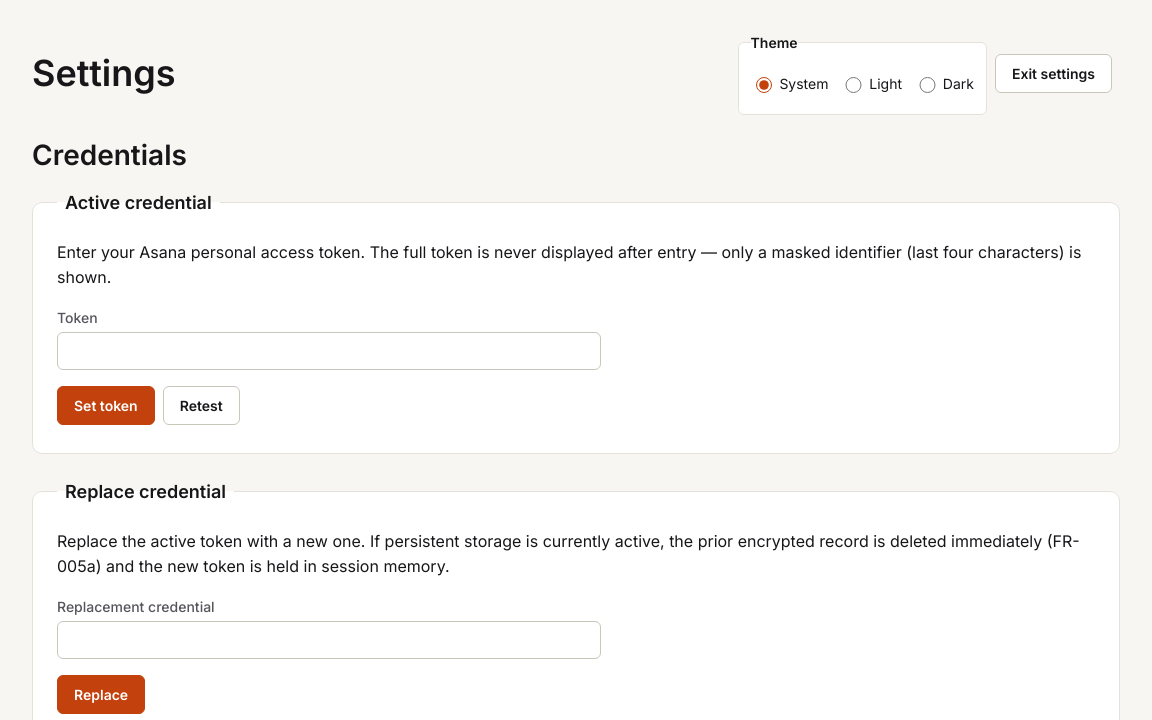
Test: BSOD-360 Settings exit affordance › falls back to the app shell when the user landed on Settings directly
What coordinates should you click on to do the following:
click the button with test id "settings-exit"
I would click on:
 (1054, 74)
Its box is [995,54,1112,93].
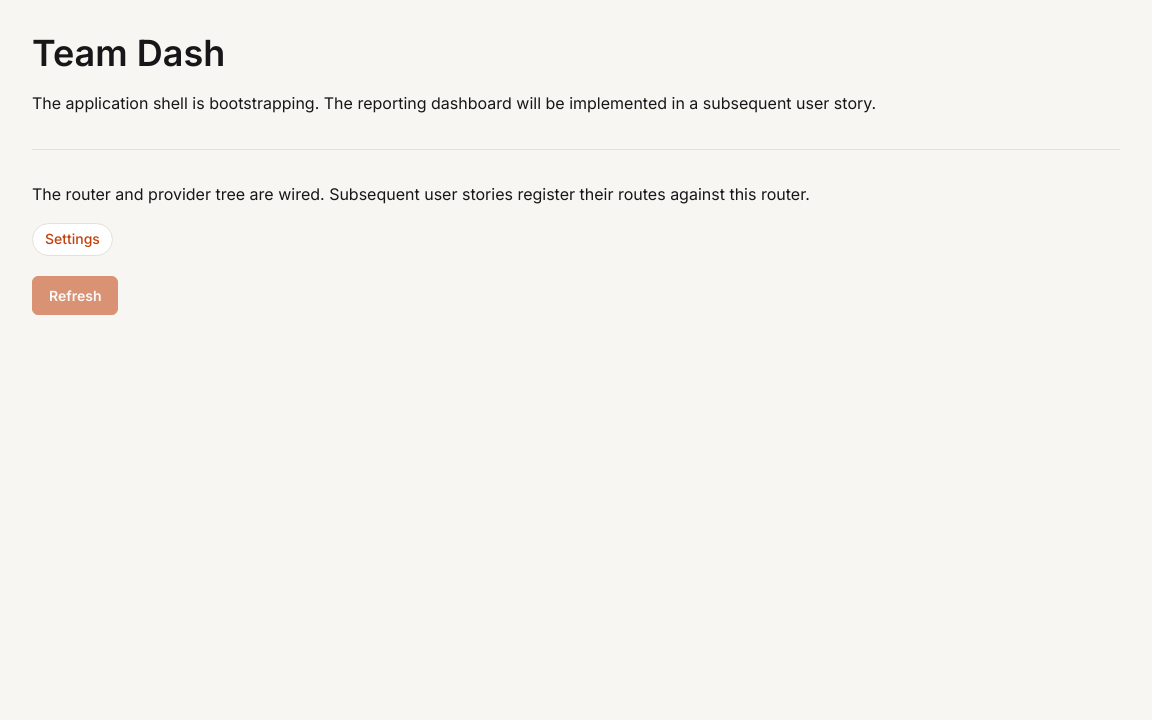
Result: the heading "Team Dash" is shown at [32,31,225,75]
